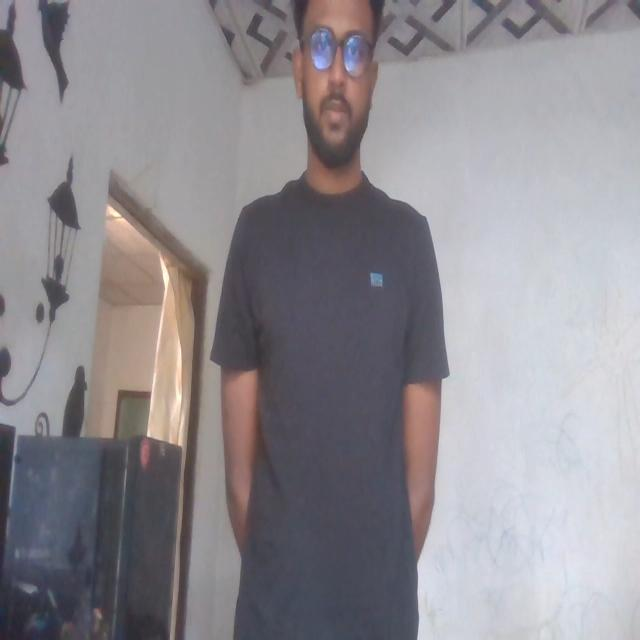Person: (219, 0, 455, 640)
